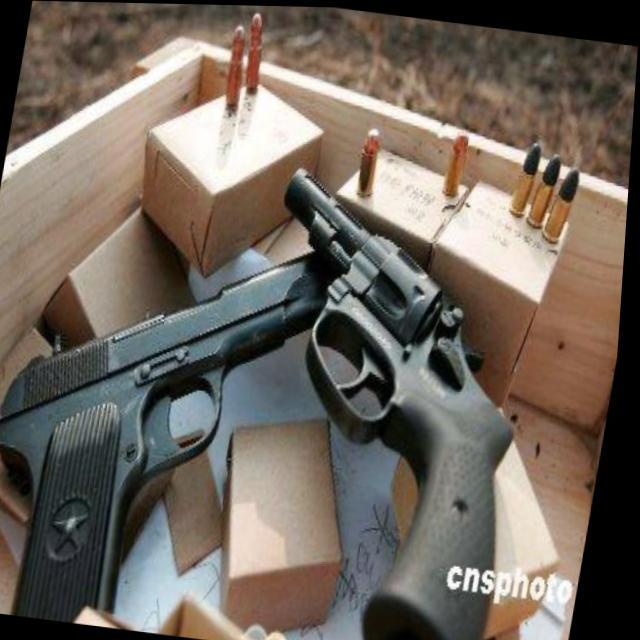weapon: (214, 159, 564, 640), (0, 207, 347, 640)
